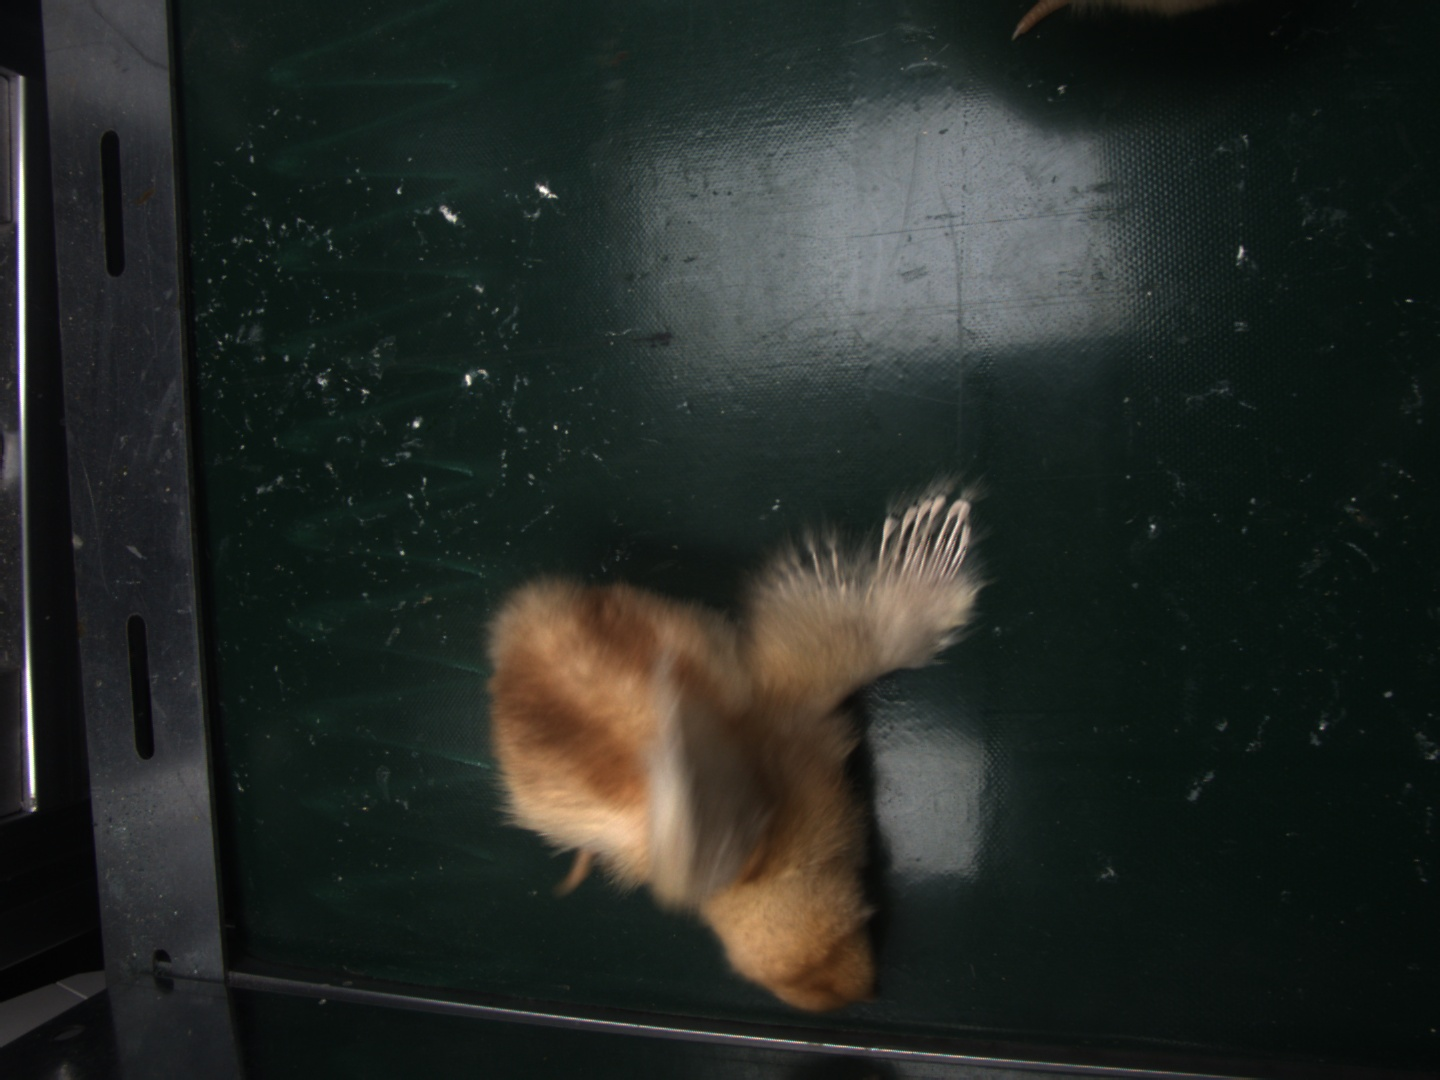female: (883, 493, 969, 580)
